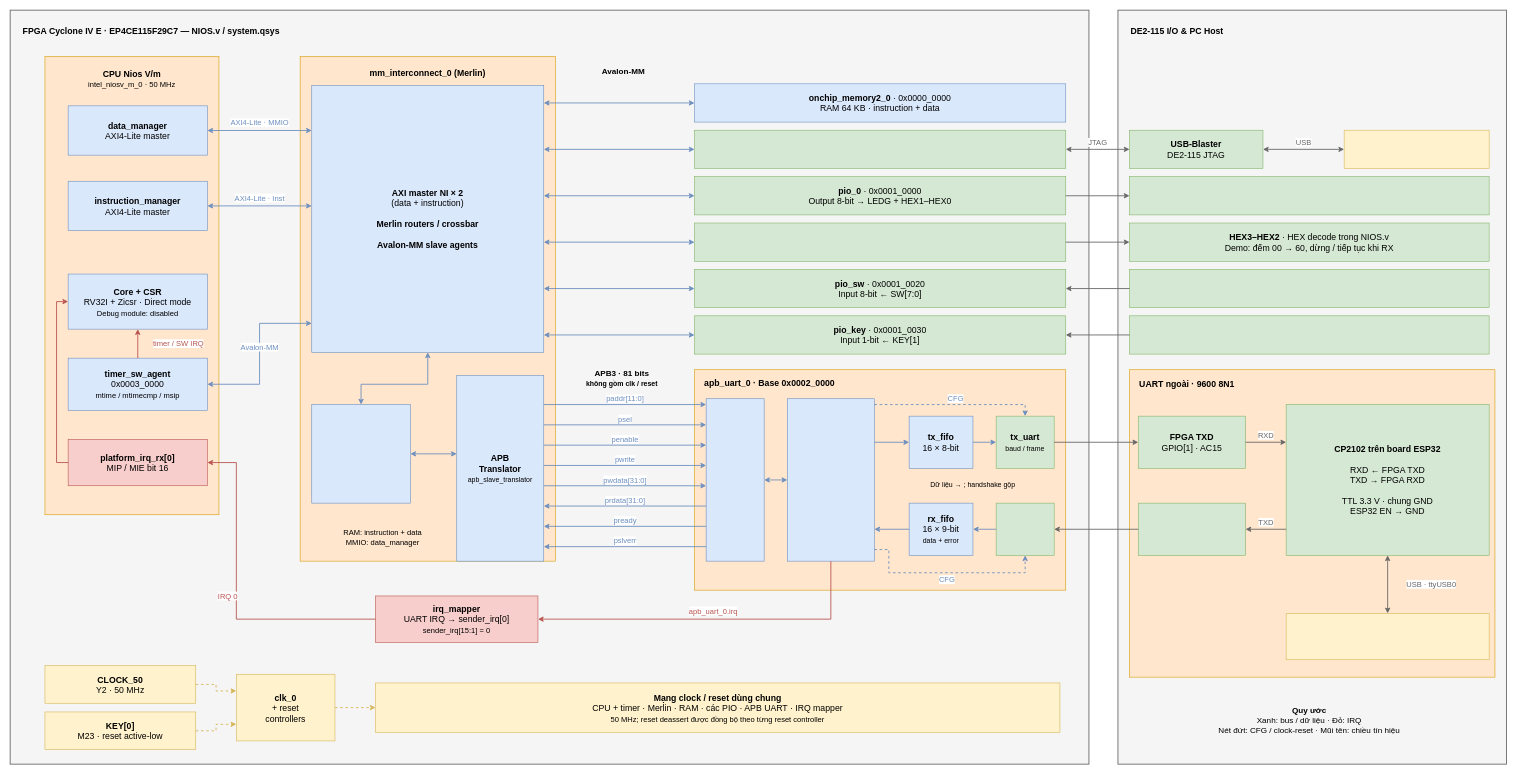
Some shapes in this 1517 by 775 pixel diagram are drawn without their labels. The box of each missing label's shape, as (x1, y1, x2, y2) in pixels:
APB Slave Agent SETUP / ACCESS: (311, 404, 410, 503)
apb_slave decode APB3: (706, 398, 764, 561)
FPGA RXD GPIO[0] · AB22: (1138, 503, 1246, 555)
jtag_uart_0 · 0x0001_0010 Console JTAG · IRQ không nối: (694, 130, 1066, 168)
KEY[1]: (1129, 315, 1489, 354)
LEDG[7:0] + HEX1–HEX0 HEX decode trong NIOS.v: (1129, 176, 1489, 215)
pio_hex · 0x0001_0040 Output 8-bit → HEX3–HEX2: (694, 222, 1066, 261)
rx_uart 2-FF sync baud / frame: (996, 503, 1054, 555)
SW[7:0]: (1129, 269, 1489, 308)
Terminal 1 juart-terminal: (1344, 130, 1489, 168)
Terminal 2 PC serial · picocom / PuTTY: (1286, 613, 1489, 660)
uart_regs 0x00 · TX 0x04 · RX 0x08 · CFG 0x0C · STT 0x10 · IER: (787, 398, 874, 561)
